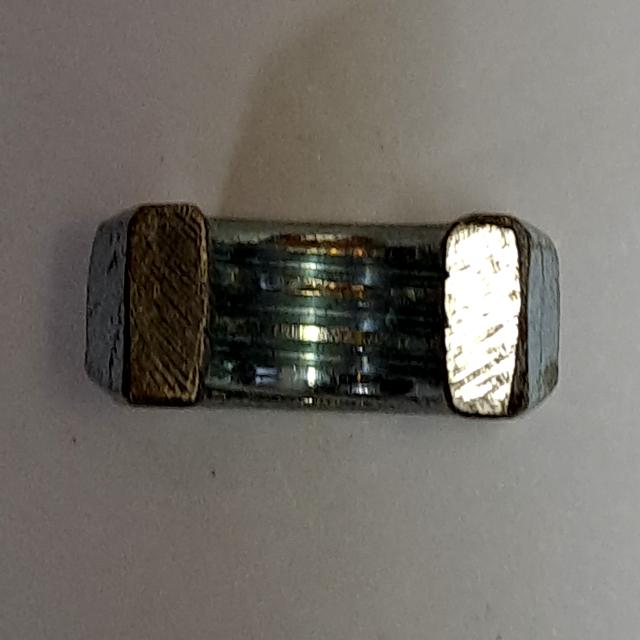Side-Fracture: (70, 181, 580, 444)
